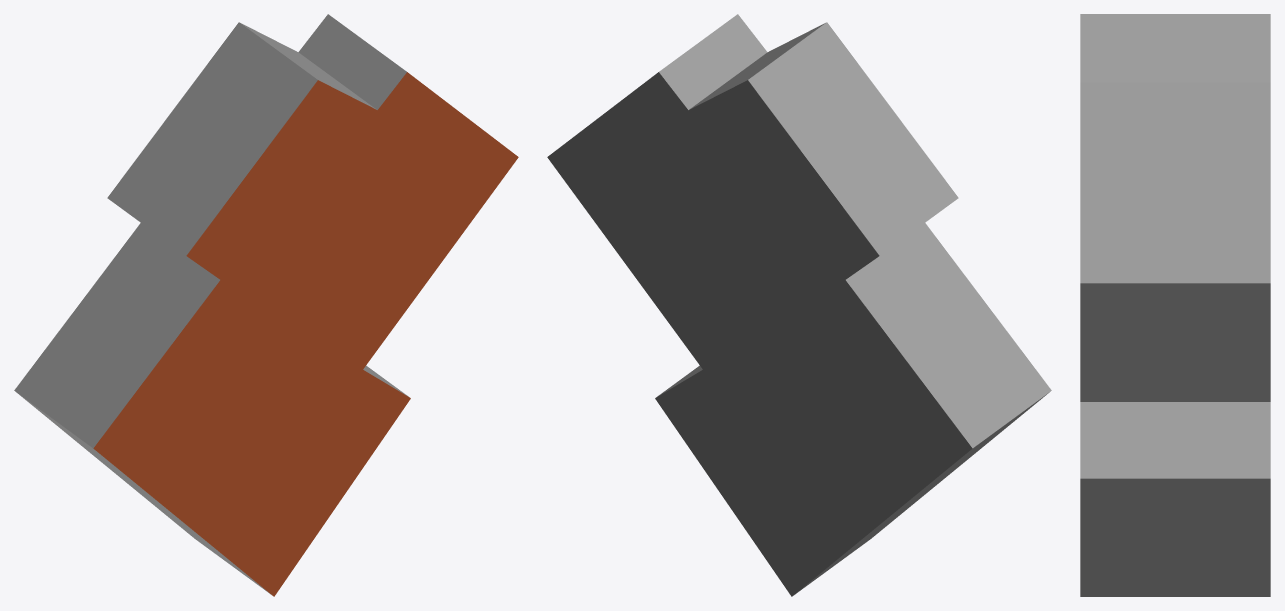
File: construction_6041_assumed_A_Casa_h6m.obj
3 renders of one model, left to right at view 1: azimuth 30°, elevation 25°; view 2: azimuth 150°, elevation 25°; view 3: azimuth 270°, elevation 25°, orthographic. The views are drawn at different scales.
Visible parts, largest first — view 1: construction_6041_assumed_A_Casa; view 2: construction_6041_assumed_A_Casa; view 3: construction_6041_assumed_A_Casa.
Boxes of the visible parts, x1=… form: construction_6041_assumed_A_Casa: x1=14, y1=14, x2=518, y2=596; construction_6041_assumed_A_Casa: x1=547, y1=14, x2=1051, y2=596; construction_6041_assumed_A_Casa: x1=1080, y1=14, x2=1270, y2=596.
Bounding box in the file's own units: 18.62 × 21.17 × 6.
